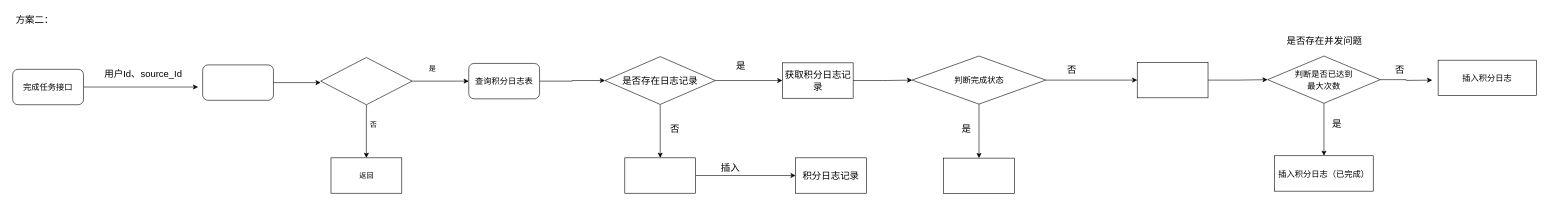
Image size: 1547x204. Some labels were removed from this diagram. Each missing label, with the box of its shape:
任务未完成: (1137, 62, 1208, 98)
提示该任务 已完成: (943, 158, 1014, 194)
是否配置了积分-任务: (320, 57, 412, 105)
查询积分任务表: (202, 64, 273, 100)
获取任务积分配置: (624, 157, 696, 193)
